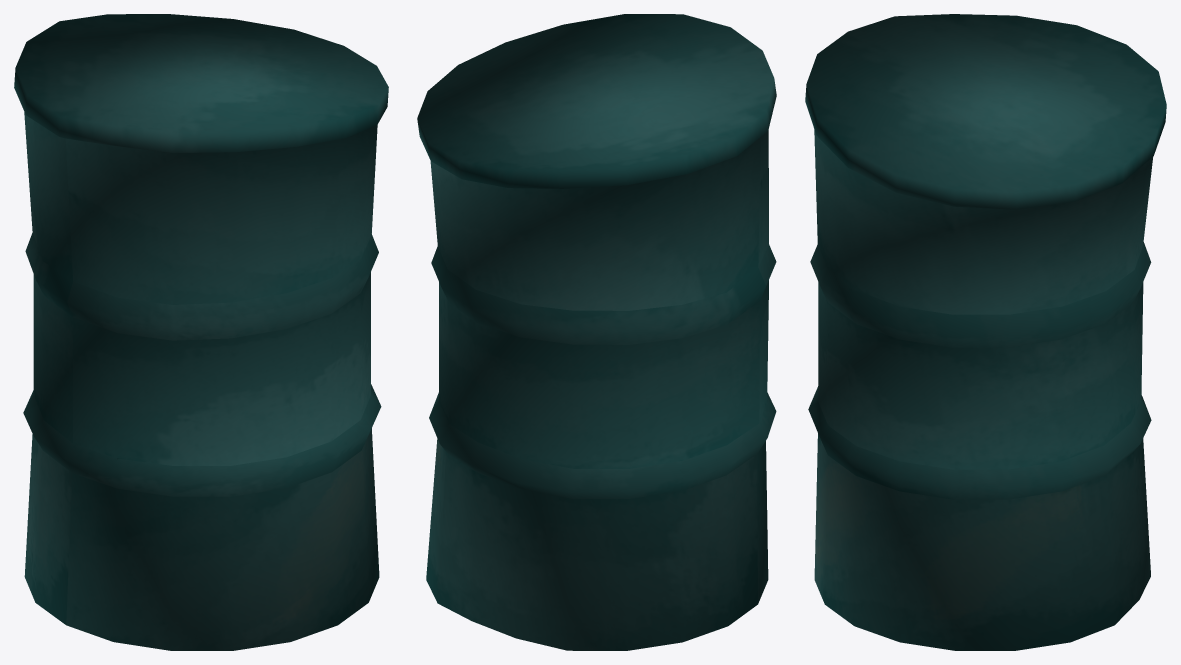
File: Barrel.fbx
The picture shows the model from 3 angles, left to right: view 1: azimuth 30°, elevation 25°; view 2: azimuth 150°, elevation 25°; view 3: azimuth 270°, elevation 25°; orthographic projection. The views are drawn at different scales.
Parts seen in each view (by area): view 1: Cylinder; view 2: Cylinder; view 3: Cylinder.
Part boxes in pixels (x1,y1,x2,y2): Cylinder: [14, 14, 388, 650]; Cylinder: [417, 14, 776, 650]; Cylinder: [805, 14, 1166, 650].
Size of the model in its own units: 208 by 324 by 212.
